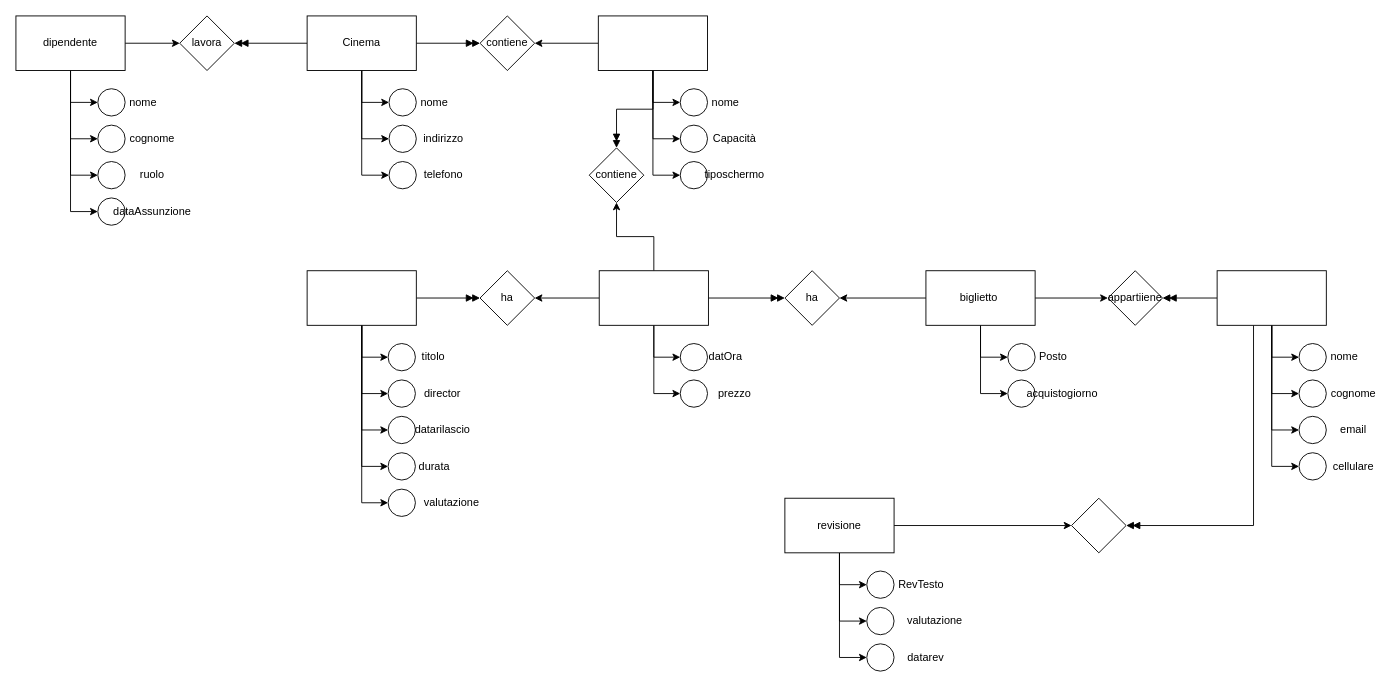
Image size: 1397x687. Some labels were removed from this diagram. Each missing label, with the centre of its shape:
"cliente" belongs at (1271,297).
"film" belongs at (361,297).
"OrarioSpettacolo" belongs at (653,297).
"sala" belongs at (652,43).
"vista" belongs at (1098,525).
